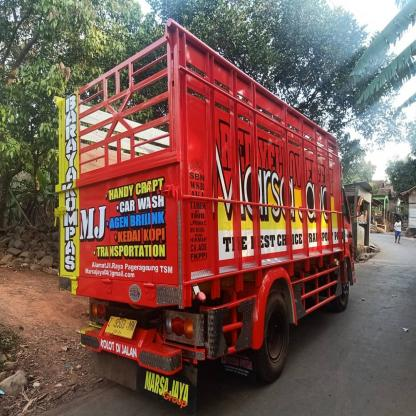truck: (53, 18, 356, 410)
